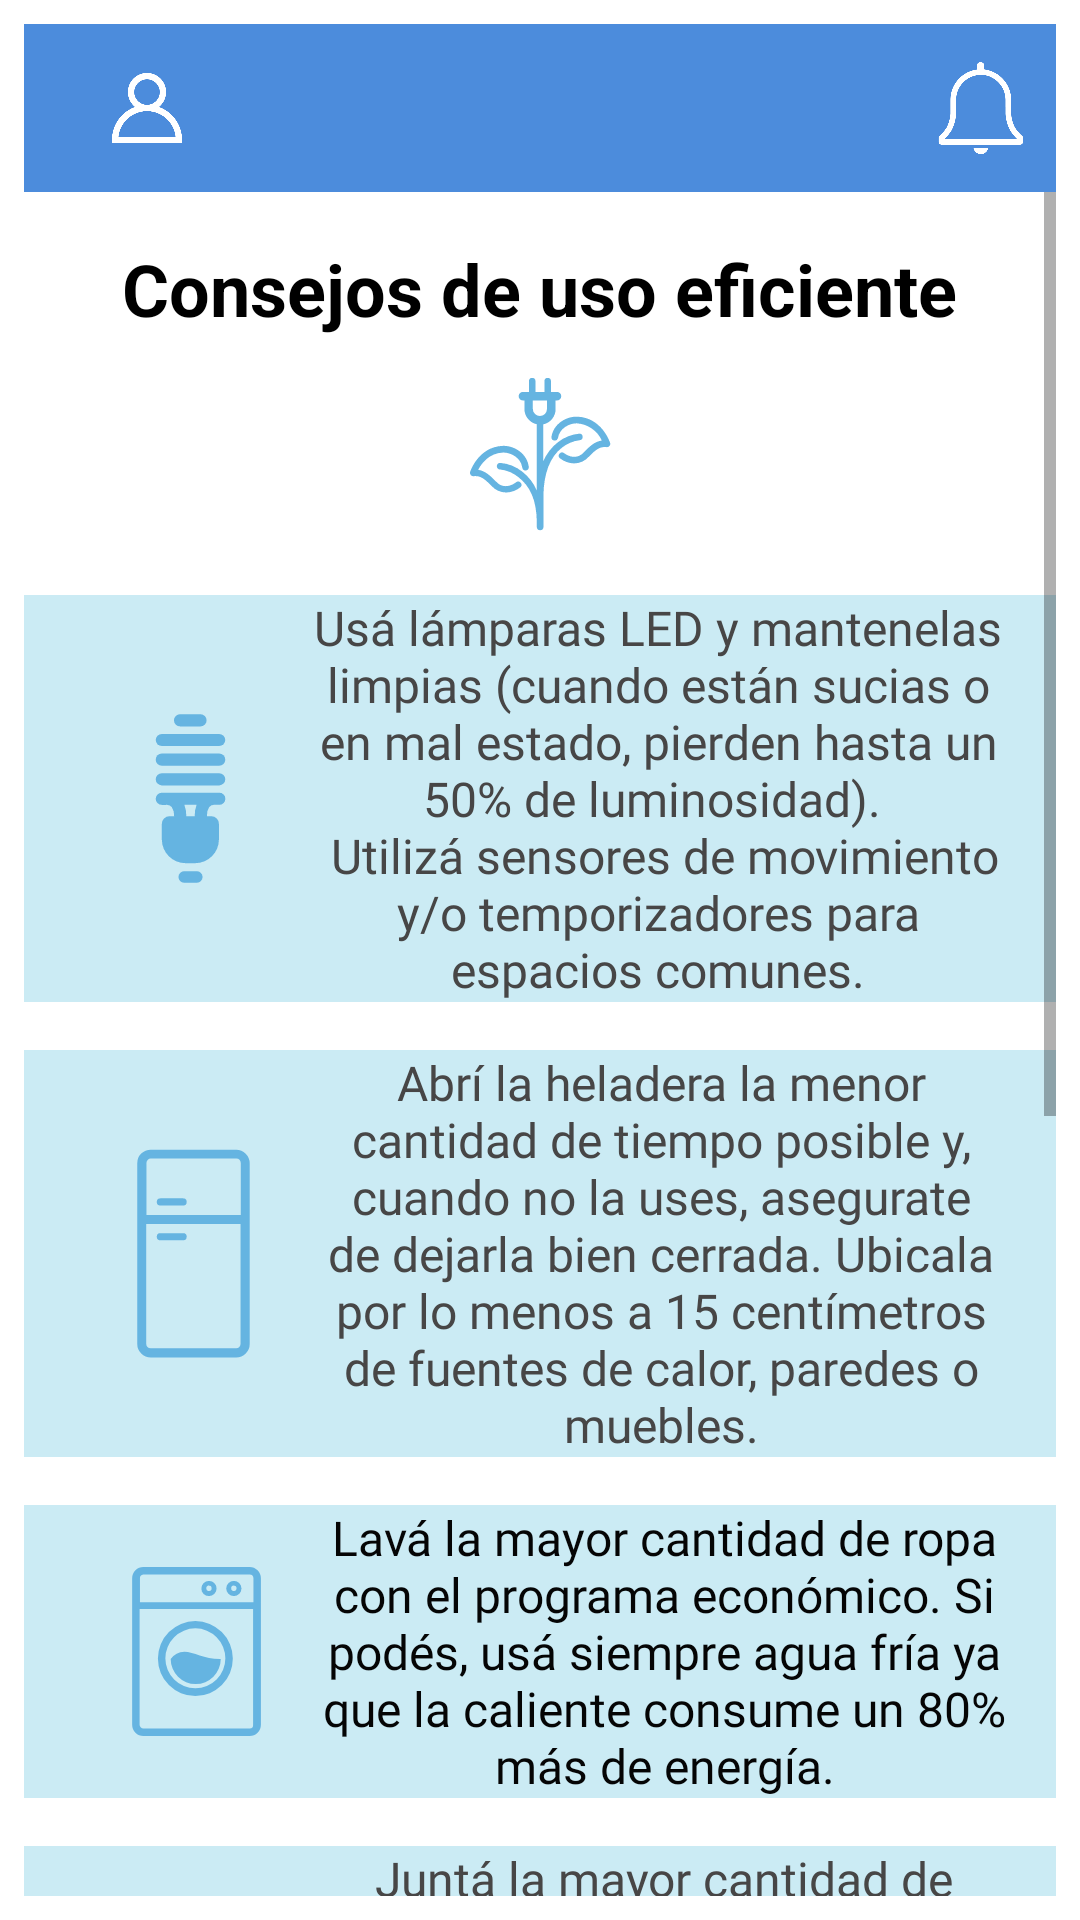

Screen size 1080*1920. Icon name, then its center in pixels as [x,y]:
Icono sustentable: [540,454]
lampara bajo consumo: [190,798]
lavarropas: [196,1651]
Notification Icon: [981,108]
User Icon: [147,108]
